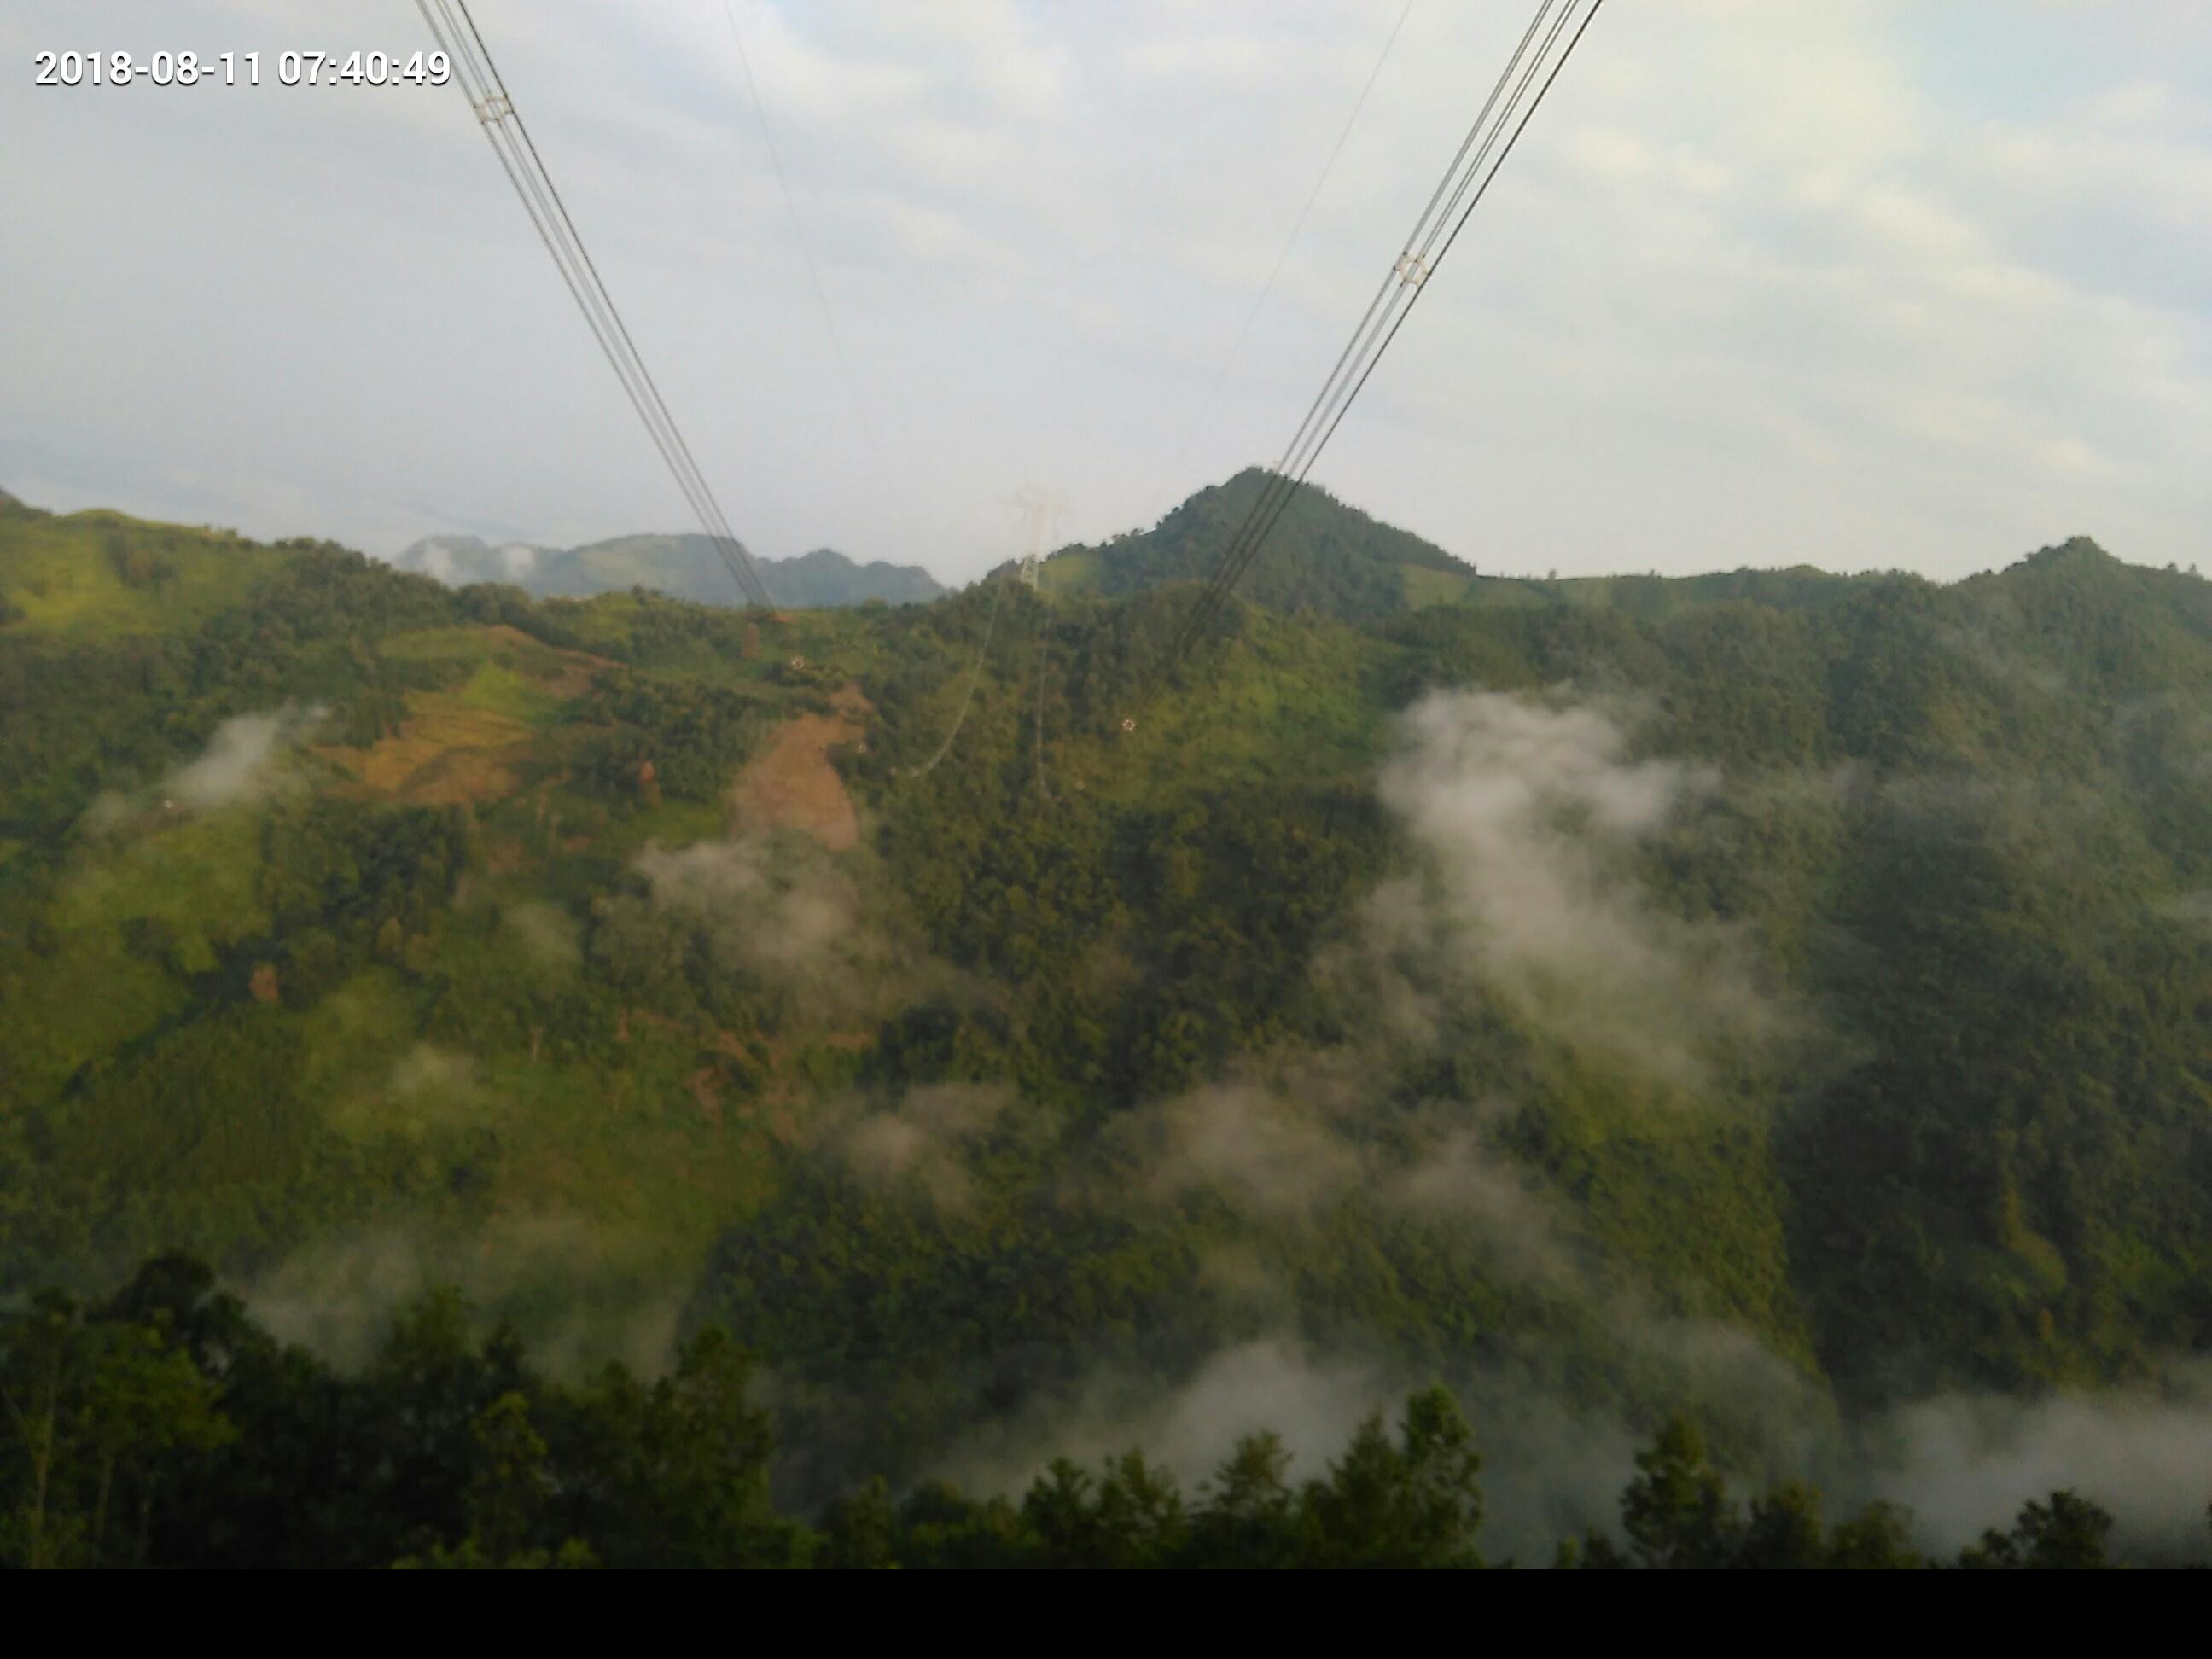YanHuo: (1388, 709, 1721, 1021), (1888, 1371, 2212, 1577), (1153, 1335, 1341, 1514), (162, 706, 286, 814)
